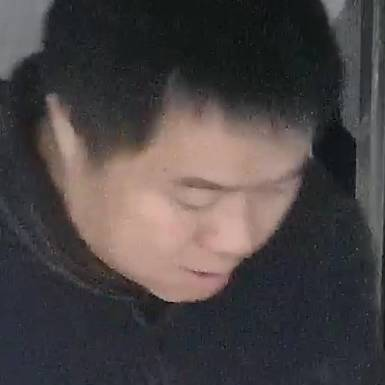cb: (38, 39, 330, 331)
